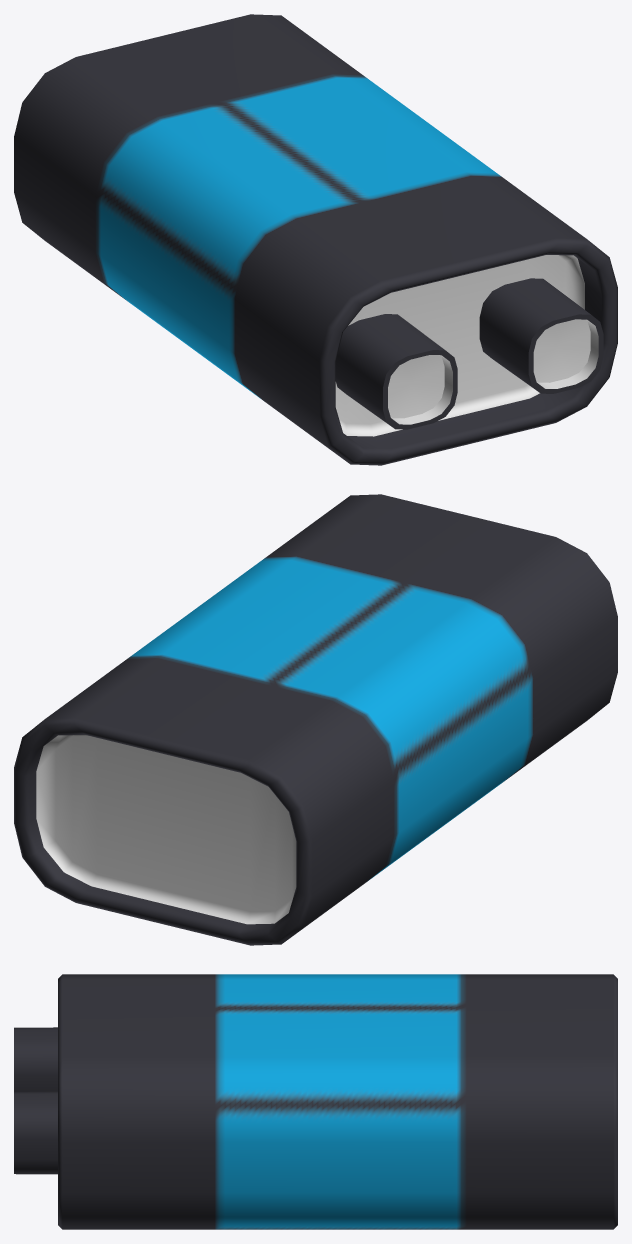
Rendered from Pile Telecommande.fbx.
The picture shows the model from 3 angles, top to bottom: view 1: azimuth 30°, elevation 25°; view 2: azimuth 150°, elevation 25°; view 3: azimuth 270°, elevation 25°; orthographic projection. The views are drawn at different scales.
Parts seen in each view (by area): view 1: pile_telecomande; view 2: pile_telecomande; view 3: pile_telecomande.
Boxes of the visible parts, left/top/right/bottom form: pile_telecomande: left=14, top=14, right=617, bottom=465; pile_telecomande: left=14, top=494, right=617, bottom=945; pile_telecomande: left=14, top=974, right=617, bottom=1229.
Size of the model in its own units: 6.23 by 3.69 by 12.11.
1 material, 1 textured.
